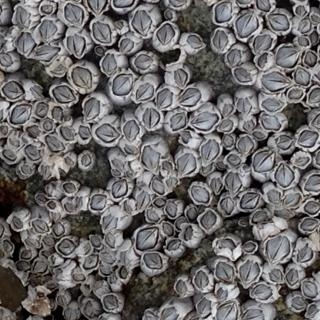Barnacle: (265, 236, 291, 263), (189, 111, 219, 131), (234, 12, 258, 37), (261, 71, 292, 90), (238, 259, 261, 284), (111, 72, 135, 95), (136, 225, 158, 250), (71, 65, 93, 90), (175, 153, 197, 177), (200, 139, 220, 165), (132, 9, 152, 35), (252, 149, 274, 172), (274, 46, 298, 67), (155, 22, 177, 44), (274, 162, 293, 187), (141, 145, 160, 170), (95, 123, 120, 142), (64, 2, 83, 27), (8, 102, 30, 123), (178, 87, 201, 107), (215, 301, 239, 319), (224, 172, 242, 196), (66, 33, 84, 57), (3, 81, 24, 101), (40, 19, 60, 40), (141, 107, 160, 129), (16, 33, 35, 55), (50, 84, 73, 102), (83, 97, 100, 121), (215, 262, 235, 282), (239, 190, 259, 210), (93, 21, 111, 43), (15, 6, 30, 31), (215, 1, 232, 23), (122, 119, 138, 142), (268, 13, 288, 31), (35, 46, 58, 61), (100, 212, 118, 231), (298, 130, 317, 148), (191, 184, 208, 204), (134, 52, 154, 69), (156, 88, 172, 109), (90, 193, 108, 211), (254, 33, 272, 51), (111, 178, 128, 197), (135, 190, 150, 211), (102, 53, 116, 75), (302, 174, 319, 192), (23, 144, 41, 161), (45, 135, 63, 152), (135, 82, 152, 100), (262, 114, 281, 130), (87, 0, 106, 16), (197, 297, 212, 317), (193, 270, 208, 290), (142, 253, 162, 268), (295, 66, 310, 86), (226, 49, 241, 69), (241, 306, 264, 319), (302, 280, 318, 298), (282, 192, 300, 208), (237, 135, 253, 153), (250, 285, 272, 298), (212, 30, 227, 49), (30, 218, 50, 232), (83, 253, 99, 270), (58, 239, 75, 255), (200, 211, 216, 228), (185, 33, 202, 49), (274, 135, 292, 150), (170, 111, 185, 129), (215, 238, 235, 251), (262, 98, 282, 111), (297, 244, 312, 261), (233, 67, 250, 82), (173, 68, 187, 86), (290, 295, 306, 310), (102, 294, 118, 309), (26, 123, 42, 138), (219, 197, 233, 214), (286, 267, 299, 285), (265, 188, 280, 203), (297, 17, 311, 33), (51, 104, 64, 121), (268, 267, 282, 282), (100, 251, 115, 265), (304, 200, 319, 214), (60, 126, 74, 141), (256, 51, 269, 67), (31, 261, 48, 273), (300, 218, 317, 230), (152, 177, 164, 194), (30, 83, 42, 100), (120, 37, 132, 54), (210, 176, 221, 194), (35, 102, 48, 117), (237, 98, 250, 113), (288, 86, 303, 99), (304, 51, 317, 66), (161, 221, 173, 237), (218, 119, 234, 131), (166, 198, 177, 215), (0, 53, 13, 67), (25, 236, 40, 248), (185, 206, 197, 221), (307, 88, 319, 103), (256, 0, 271, 12), (104, 232, 115, 248), (146, 209, 159, 222), (227, 153, 241, 165), (176, 279, 186, 295), (252, 211, 268, 221), (40, 163, 50, 179), (20, 164, 33, 176), (78, 126, 90, 139), (222, 102, 233, 116), (52, 63, 66, 74), (166, 239, 181, 249), (0, 150, 15, 160), (65, 307, 77, 319), (306, 304, 318, 316), (63, 181, 75, 193), (165, 176, 177, 188), (294, 4, 306, 16), (40, 3, 53, 14), (53, 221, 63, 235), (8, 137, 18, 151), (294, 156, 309, 165), (12, 217, 24, 228), (161, 160, 172, 172), (222, 135, 233, 147), (243, 119, 254, 131), (243, 242, 256, 252), (62, 202, 75, 212), (111, 158, 124, 168), (63, 154, 73, 167), (123, 145, 136, 155), (15, 262, 29, 271), (36, 194, 47, 205), (181, 131, 192, 142), (90, 235, 100, 247), (184, 226, 192, 241), (81, 153, 91, 165), (176, 216, 185, 229), (85, 302, 93, 316), (41, 236, 55, 244), (309, 30, 317, 44), (217, 288, 227, 299), (202, 164, 213, 174), (153, 198, 165, 207), (75, 195, 83, 208), (99, 265, 110, 274), (20, 249, 31, 258), (3, 240, 12, 251), (0, 124, 9, 135), (73, 273, 85, 281), (119, 266, 127, 278), (47, 183, 55, 195), (135, 179, 147, 187), (127, 160, 135, 172), (215, 160, 225, 169), (253, 131, 264, 139), (57, 295, 66, 304), (50, 211, 59, 220), (44, 120, 52, 130), (116, 20, 124, 30), (109, 274, 117, 283), (311, 14, 319, 23)
